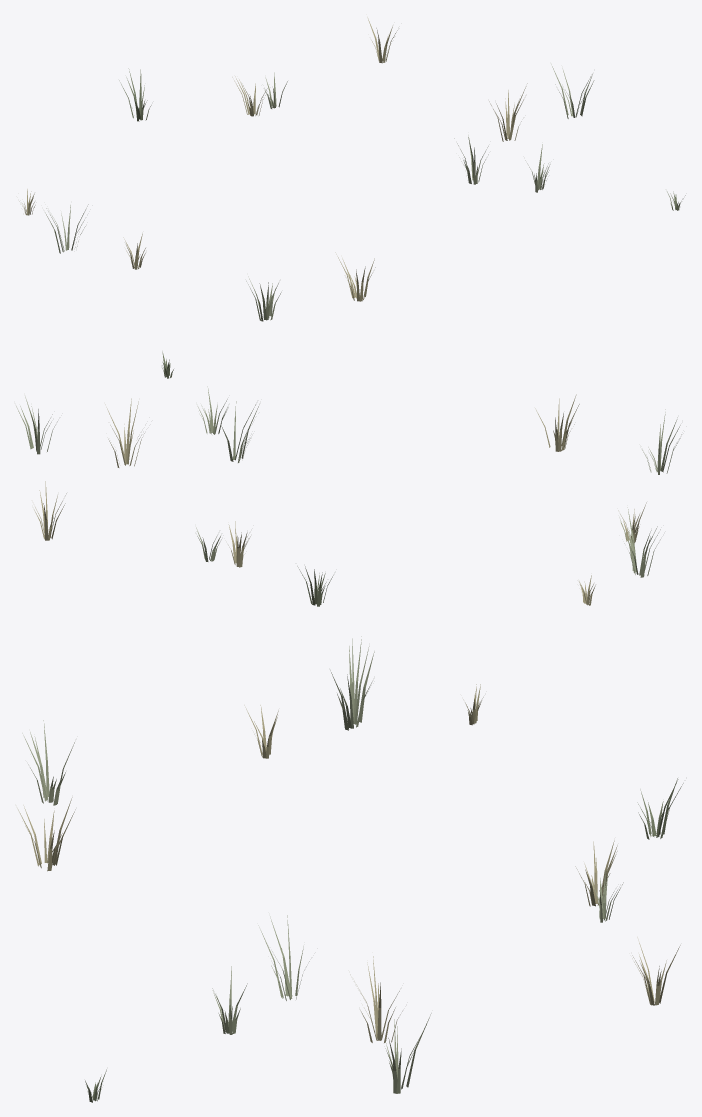
The model's file is AE_Grass_2_-4.fbx.
3 views of the same model, one above another, from view 1: azimuth 30°, elevation 25°; view 2: azimuth 150°, elevation 25°; view 3: azimuth 270°, elevation 25° (orthographic). The views are drawn at different scales.
Visible parts, largest first — view 1: AE_Grass_2_-4_LOD0; view 2: AE_Grass_2_-4_LOD0; view 3: AE_Grass_2_-4_LOD0.
Part boxes in pixels (box(x1,y1,x2,y2)): AE_Grass_2_-4_LOD0: box(19, 17, 685, 321); AE_Grass_2_-4_LOD0: box(16, 351, 681, 606); AE_Grass_2_-4_LOD0: box(17, 636, 683, 1102).
Size of what is drawn, in the model's own units: 991 by 118 by 729.
